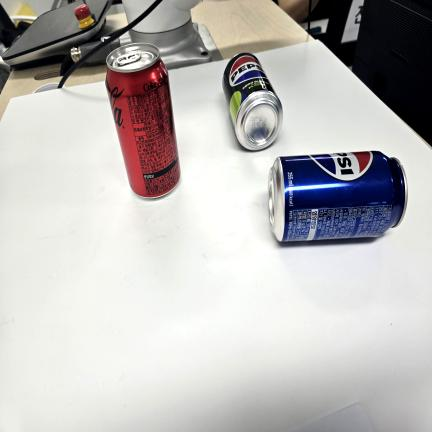can_coke_zero: (105, 43, 180, 198)
can_pepsi: (268, 151, 408, 241)
can_pepsi_zero: (222, 53, 283, 150)
